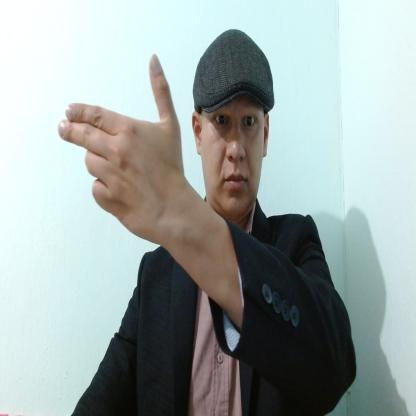H: (59, 55, 184, 245)
